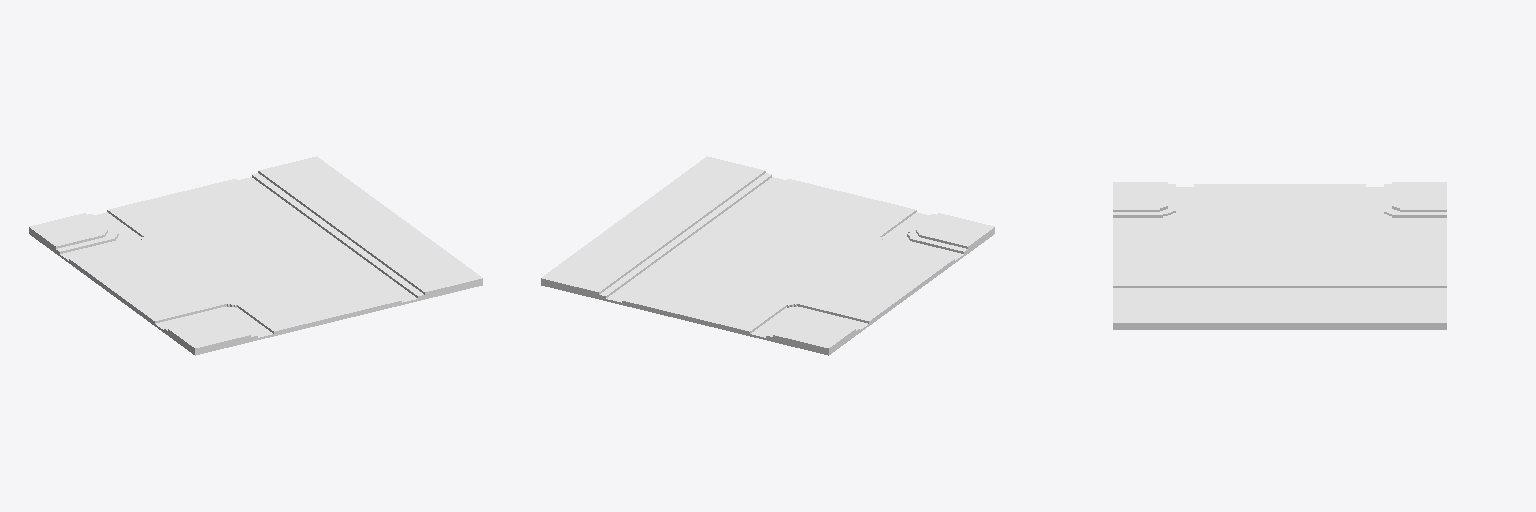
The model's file is GDS2_Flooring-5.obj.
The picture shows the model from 3 angles: view 1: azimuth 30°, elevation 25°; view 2: azimuth 150°, elevation 25°; view 3: azimuth 270°, elevation 25°; orthographic projection.
Visible parts, largest first — view 1: GDS2_Flooring-5; view 2: GDS2_Flooring-5; view 3: GDS2_Flooring-5.
Boxes of the visible parts, x1,y1,x2,y2 form: GDS2_Flooring-5: [29, 156, 482, 355]; GDS2_Flooring-5: [541, 156, 994, 355]; GDS2_Flooring-5: [1113, 182, 1446, 329].
Bounding box in the file's own units: 12.8 × 0.3 × 12.8.